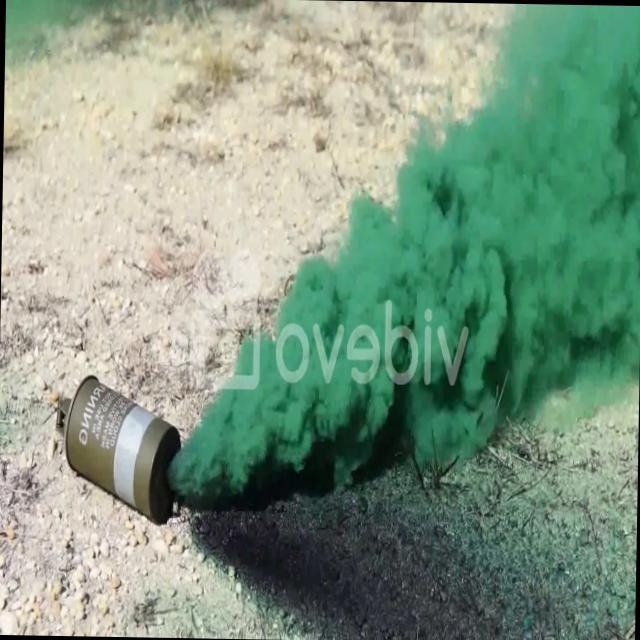grenade: (50, 368, 181, 532)
